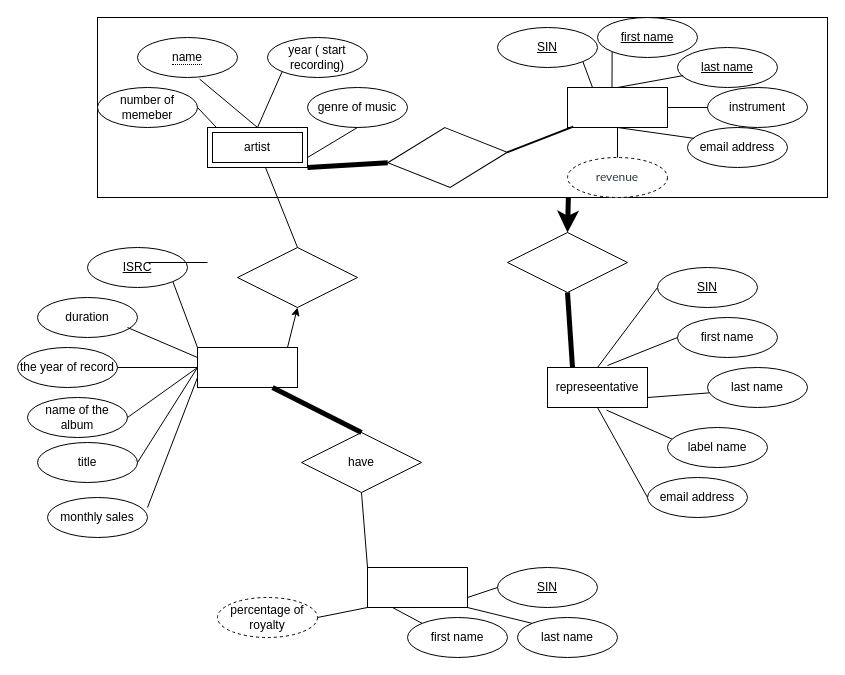
Some shapes in this 845 by 675 pixel diagram are drawn without their labels. Each missing label, with the box of its shape:
assign: (506, 232, 628, 292)
ISA: (384, 121, 510, 193)
musician: (566, 86, 668, 128)
record: (236, 246, 358, 308)
song: (196, 346, 298, 388)
writer: (366, 566, 468, 608)
